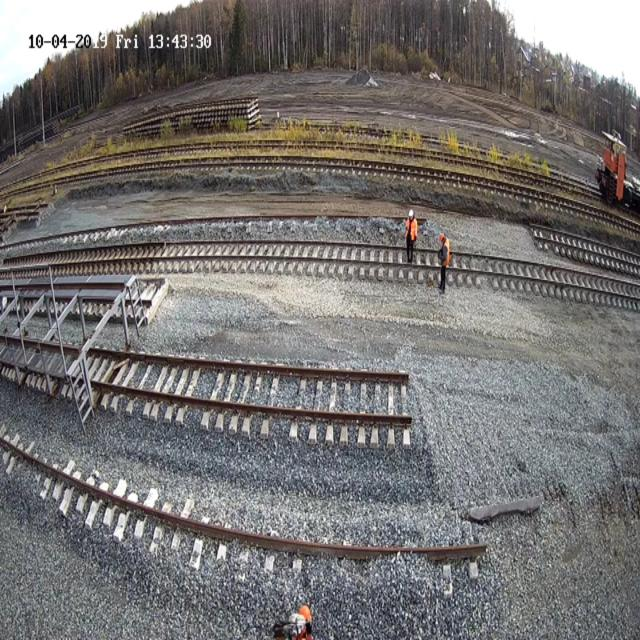Helmet: (299, 604, 312, 624), (408, 208, 414, 218), (440, 233, 444, 241)
Person: (404, 209, 418, 263), (438, 232, 450, 294)
